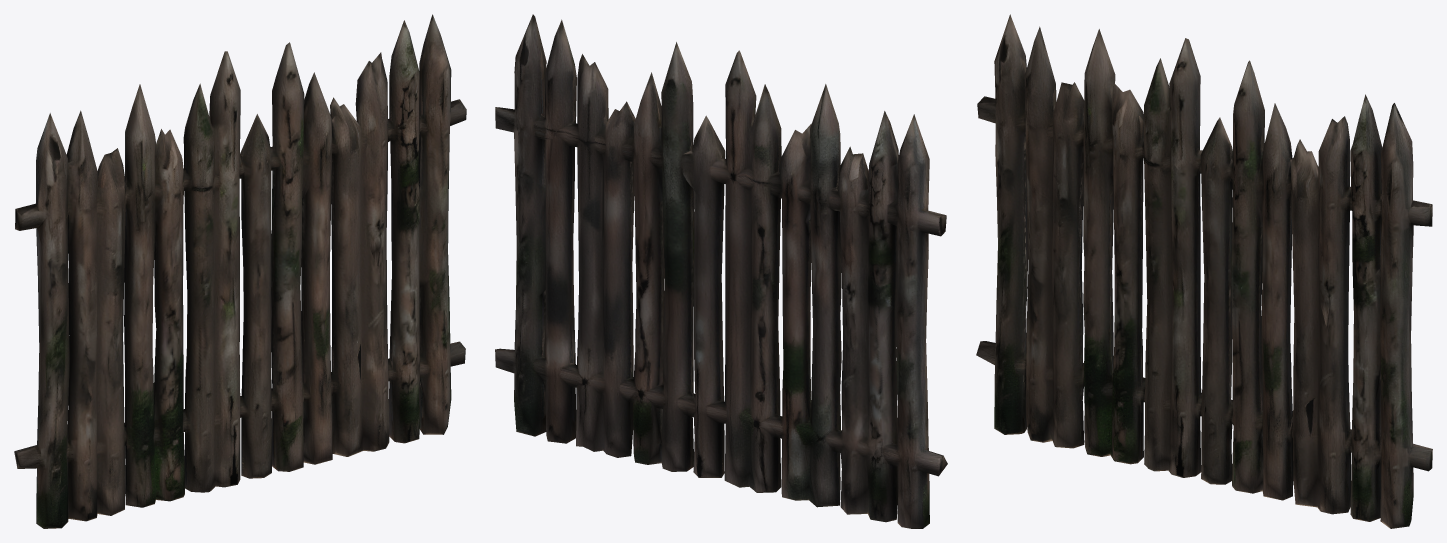
Rendered from o37_ahsap_palisat_kazik_sur.glb.
The picture shows the model from 3 angles, left to right: view 1: azimuth 30°, elevation 25°; view 2: azimuth 150°, elevation 25°; view 3: azimuth 330°, elevation 25°; orthographic projection.
Bounding box in the file's own units: 1.92 × 1.76 × 0.1354.
Materials: 1 (1 with a texture image).
